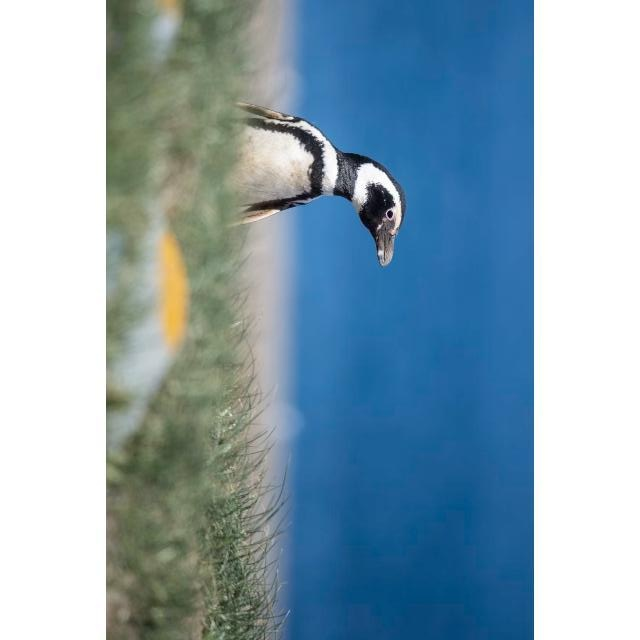penguin: (228, 99, 408, 266)
